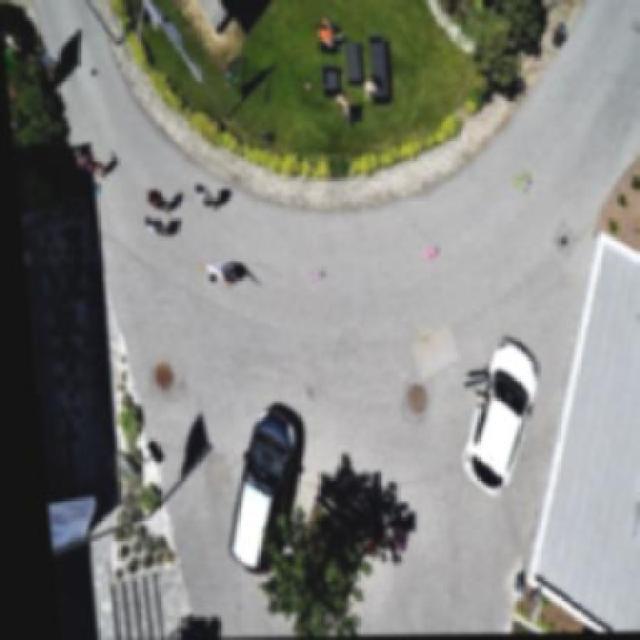Person: (185, 255, 244, 293), (70, 143, 112, 185), (317, 14, 349, 52), (330, 83, 356, 128), (194, 176, 223, 216), (132, 214, 174, 237), (356, 75, 381, 103), (140, 188, 168, 208)
